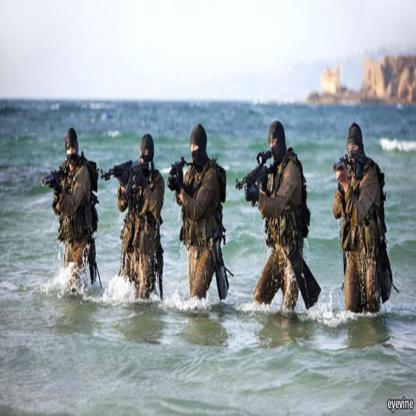face: (348, 141, 361, 169), (269, 134, 281, 162), (191, 138, 202, 165), (67, 142, 79, 165), (140, 144, 150, 168)
